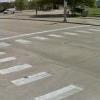Crosswalk: (4, 52, 98, 100)
